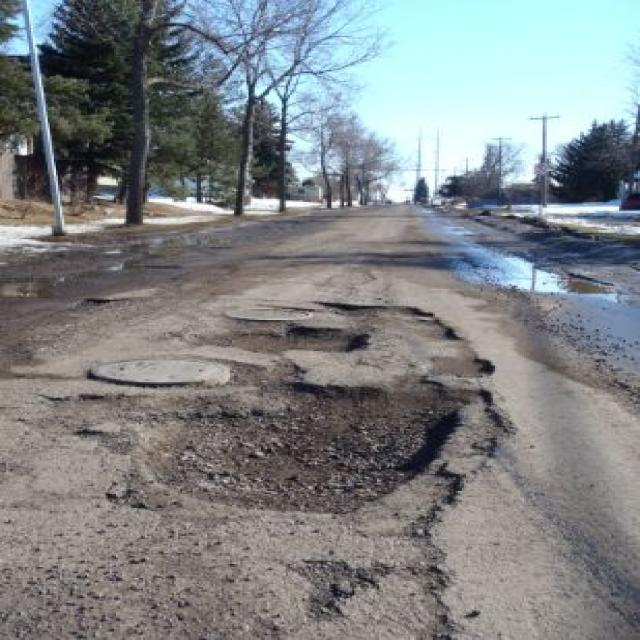pothole: (145, 373, 483, 522), (201, 318, 367, 361), (321, 288, 462, 336), (410, 352, 495, 378)
